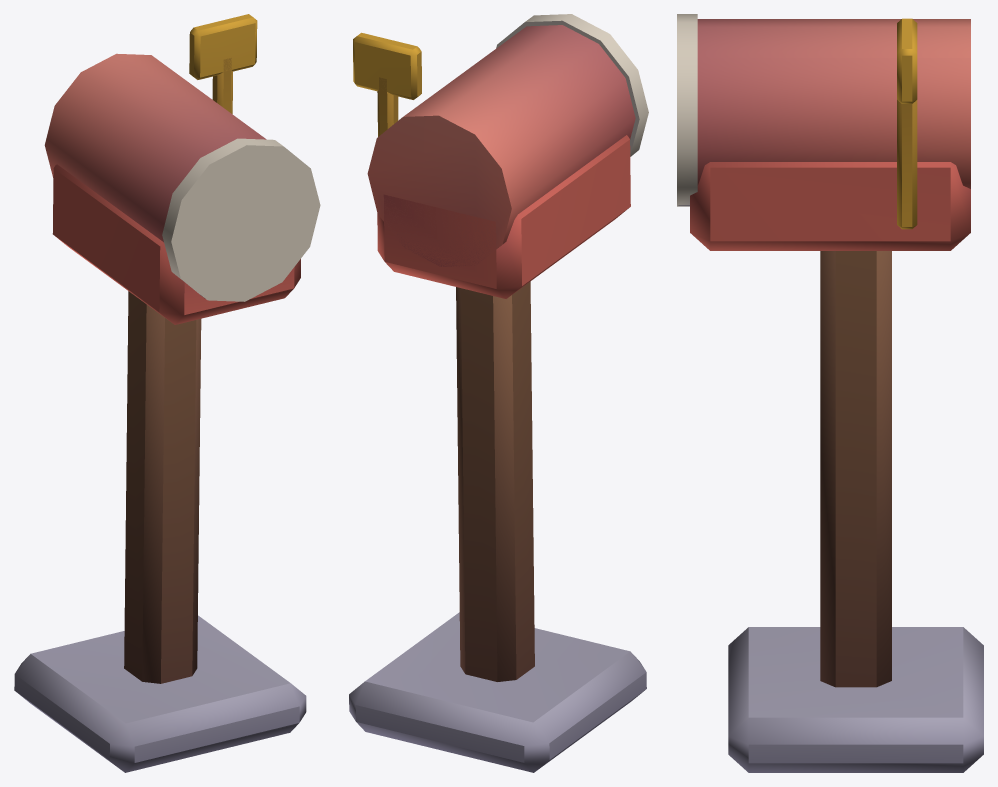
The model's file is common_town_mailbox.glb.
3 renders of one model, left to right at view 1: azimuth 30°, elevation 25°; view 2: azimuth 150°, elevation 25°; view 3: azimuth 270°, elevation 25°, orthographic. The views are drawn at different scales.
Visible parts, largest first — view 1: common_town_mailbox; view 2: common_town_mailbox; view 3: common_town_mailbox.
Part boxes in pixels (bbox=[...]): common_town_mailbox: bbox=[14, 14, 320, 772]; common_town_mailbox: bbox=[349, 14, 648, 772]; common_town_mailbox: bbox=[677, 14, 983, 772].
Size of the model in its own units: 0.5486 by 1.6 by 0.6.
